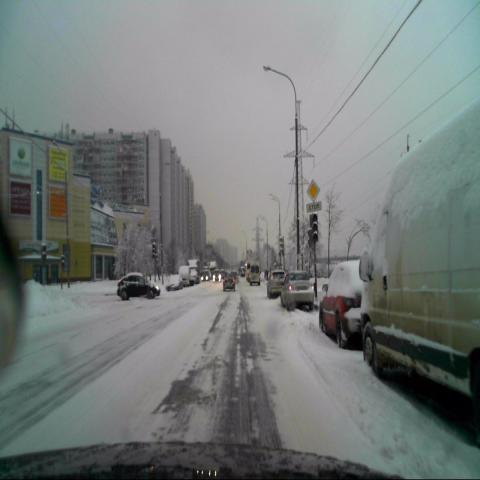2_1: (305, 177, 321, 202)
